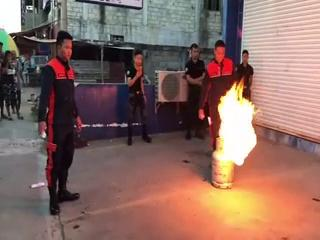Fire: (214, 76, 263, 165)
